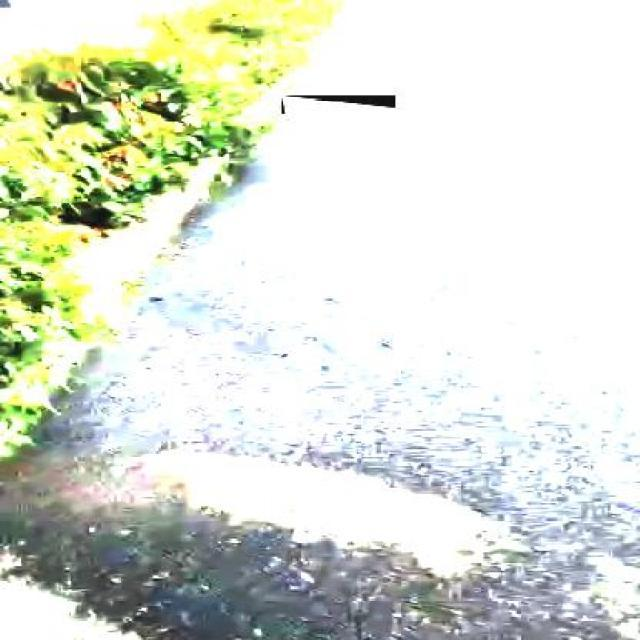Manhole: (282, 96, 396, 115)
Pothole: (78, 447, 544, 575)
